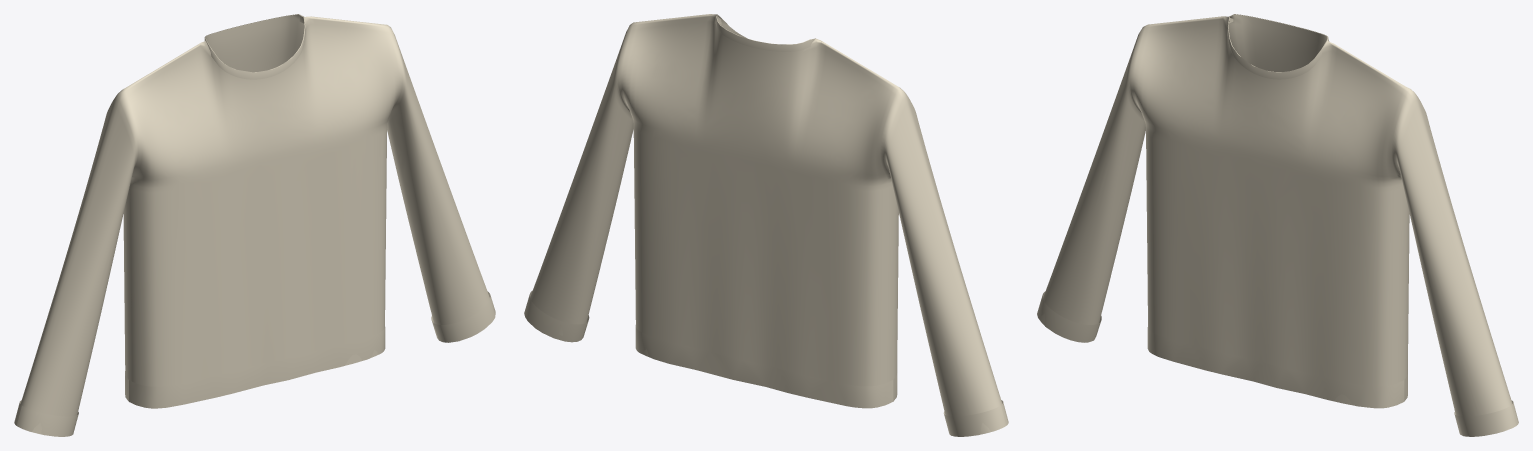
The model's file is veil-crewneck-tailored-v6.glb.
3 renders of one model, left to right at view 1: azimuth 30°, elevation 25°; view 2: azimuth 150°, elevation 25°; view 3: azimuth 330°, elevation 25°, orthographic.
Parts seen in each view (by area): view 1: front cotton, Sleeve cotton, Bound collar and folded hems, Interior cotton, back cotton; view 2: back cotton, Sleeve cotton, Bound collar and folded hems, front cotton; view 3: front cotton, Sleeve cotton, Bound collar and folded hems, Interior cotton, back cotton.
Part boxes in pixels (<box>): front cotton: <box>120,16,402,386</box>; Sleeve cotton: <box>20,30,495,434</box>; Bound collar and folded hems: <box>14,14,495,436</box>; Interior cotton: <box>205,14,304,72</box>; back cotton: <box>118,88,128,379</box>; back cotton: <box>618,14,901,386</box>; Sleeve cotton: <box>530,27,1002,434</box>; Bound collar and folded hems: <box>524,14,1008,436</box>; front cotton: <box>893,86,903,379</box>; front cotton: <box>1130,16,1413,407</box>; Sleeve cotton: <box>1039,30,1512,430</box>; Bound collar and folded hems: <box>1037,14,1518,436</box>; Interior cotton: <box>1228,14,1327,71</box>; back cotton: <box>1327,38,1414,379</box>.
Size of the model in its own units: 0.9146 by 0.6549 by 0.1174.
